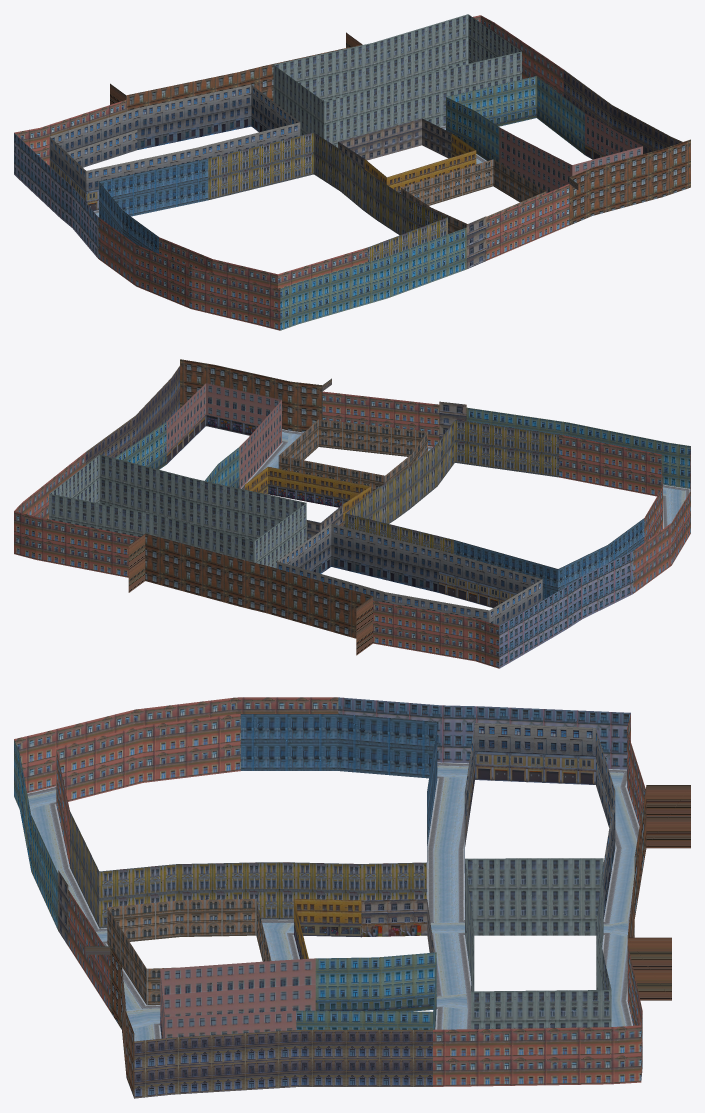
File: City_Prototype_V_0_1.fbx
The picture shows the model from 3 angles, top to bottom: view 1: azimuth 30°, elevation 25°; view 2: azimuth 150°, elevation 25°; view 3: azimuth 270°, elevation 25°; orthographic projection. The views are drawn at different scales.
Visible parts, largest first — view 1: Plane; view 2: Plane; view 3: Plane.
Boxes of the visible parts, box(x1,y1,x2,y2) form: Plane: box(14, 14, 690, 330); Plane: box(14, 359, 690, 668); Plane: box(14, 697, 690, 1098).
Size of the model in its own units: 25382 by 2669 by 21108.
